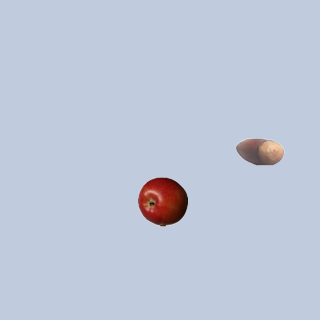Apple Braeburn: (137, 176, 187, 226)
Hazelnut: (234, 126, 284, 176)
